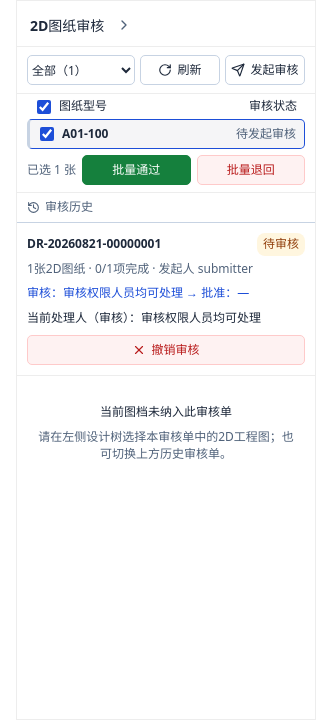
Test: DrawingReviewPanel › 发起审核按钮位于刷新右侧并打开审核范围
Click the button "发起审核" at x=265, y=70, box [225,55,305,85]
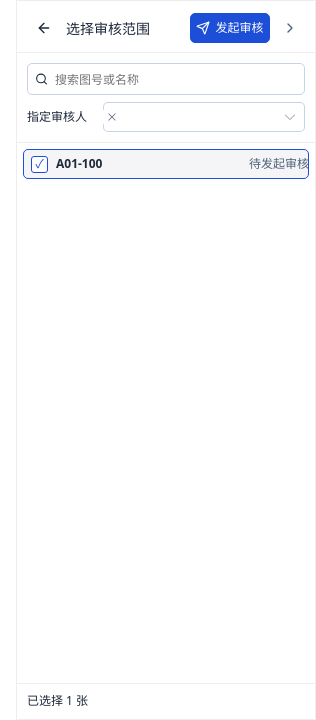
expect the text "选择审核范围" is shown: met, box [66,19,150,39]
